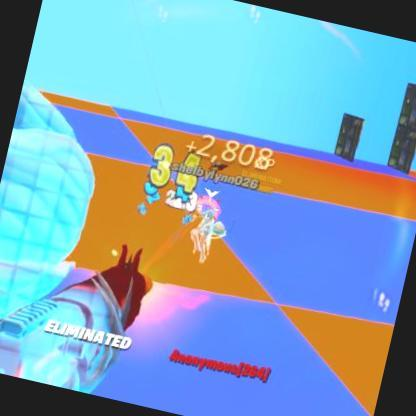person: (186, 212, 224, 264)
